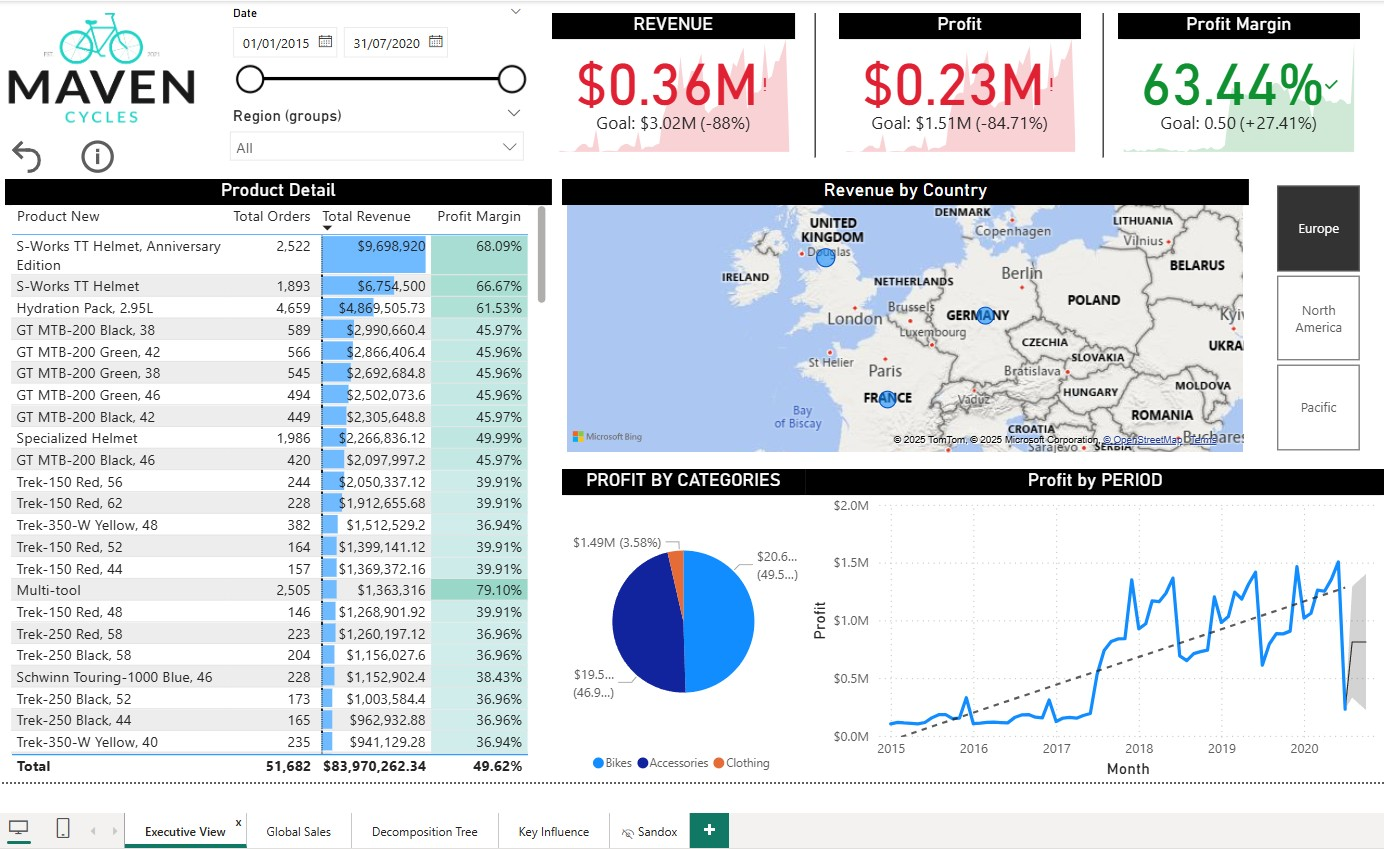

The dashboard page shown, as its layout file describes it:
{"tool":"powerbi","page":{"name":"Executive View","canvas":[1280,720],"ordinal":0},"visuals":[{"type":"kpi","title":"REVENUE","fields":{"Indicator":["Maven Cycles Sales.Total Revenue"],"TrendLine":["Maven Cycles Calendar.Month"],"Goal":["Maven Cycles Sales.Last Month Revenue"]},"box":[511.6,10.7,223.7,133.3],"z":0},{"type":"kpi","title":"Profit","fields":{"TrendLine":["Maven Cycles Calendar.Month"],"Indicator":["Maven Cycles Sales.Profit"],"Goal":["Maven Cycles Sales.Last Month profit"]},"box":[776.2,10.7,222.7,133.3],"z":1000},{"type":"kpi","title":"Profit Margin","fields":{"TrendLine":["Maven Cycles Calendar.Month"],"Indicator":["Maven Cycles Sales.Profit Margin"],"Goal":["Maven Cycles Sales.Last Month Profit Margin"]},"box":[1032.9,10.7,222.7,133.3],"z":2000},{"type":"tableEx","title":"Product Detail","fields":{"Values":["Maven Cycles Products.Product New","Maven Cycles Sales.Total Orders","Maven Cycles Sales.Total Revenue","Maven Cycles Sales.Profit Margin"]},"box":[7.8,164.4,503.8,555.4],"z":3000},{"type":"lineChart","title":"Profit by PERIOD","fields":{"Category":["Maven Cycles Calendar.Month","Maven Cycles Calendar.Quarters","Maven Cycles Calendar.Year"],"Y":["Maven Cycles Sales.Profit"]},"box":[745,430.9,535,288.9],"z":4000},{"type":"map","title":"Revenue by Country","fields":{"Size":["Maven Cycles Sales.Total Revenue"],"Category":["Maven Cycles Regions.Country"]},"box":[520.4,164.4,633.2,256.8],"z":5000},{"type":"pieChart","title":"PROFIT BY CATEGORIES","fields":{"Y":["Maven Cycles Sales.Profit"],"Category":["Maven Cycles Product Categories.Product Category"]},"box":[520.4,430.9,223.7,288.9],"z":6000},{"type":"shape","box":[715.9,10.7,75.9,133.3],"z":7000},{"type":"shape","box":[981.4,10.7,75.9,133.3],"z":8000},{"type":"slicer","fields":{"Values":["Maven Cycles Calendar.Date"]},"box":[204.3,0,290.8,92.4],"z":9000},{"type":"actionButton","box":[7.8,123.5,45.7,39.9],"z":10000},{"type":"actionButton","box":[72.9,123.5,44.7,39.9],"z":11000},{"type":"slicer","fields":{"Values":["Maven Cycles Regions.Region (groups)"]},"box":[204.3,92.4,290.8,64.2],"z":12000},{"type":"slicer","fields":{"Values":["Maven Cycles Regions.Continent"]},"box":[1153.6,163.4,126.4,257.8],"z":13000},{"type":"image","box":[0,0,191.6,123.5],"z":14000}]}

Visuals, with their boxes on the page's 1280x720 design canvas (x1, y1, x2, y2). These are canvas units, not pixel positions in the 1384x849 screenshot, which may show the page scaled, cropped or inside an application window:
"REVENUE" kpi: box(512, 11, 735, 144)
"Profit" kpi: box(776, 11, 999, 144)
"Profit Margin" kpi: box(1033, 11, 1256, 144)
"Product Detail" tableEx: box(8, 164, 512, 720)
"Profit by PERIOD" lineChart: box(745, 431, 1280, 720)
"Revenue by Country" map: box(520, 164, 1154, 421)
"PROFIT BY CATEGORIES" pieChart: box(520, 431, 744, 720)
shape: box(716, 11, 792, 144)
shape: box(981, 11, 1057, 144)
slicer - Maven Cycles Calendar.Date: box(204, 0, 495, 92)
actionButton: box(8, 124, 54, 163)
actionButton: box(73, 124, 118, 163)
slicer - Maven Cycles Regions.Region (groups): box(204, 92, 495, 157)
slicer - Maven Cycles Regions.Continent: box(1154, 163, 1280, 421)
image: box(0, 0, 192, 124)
